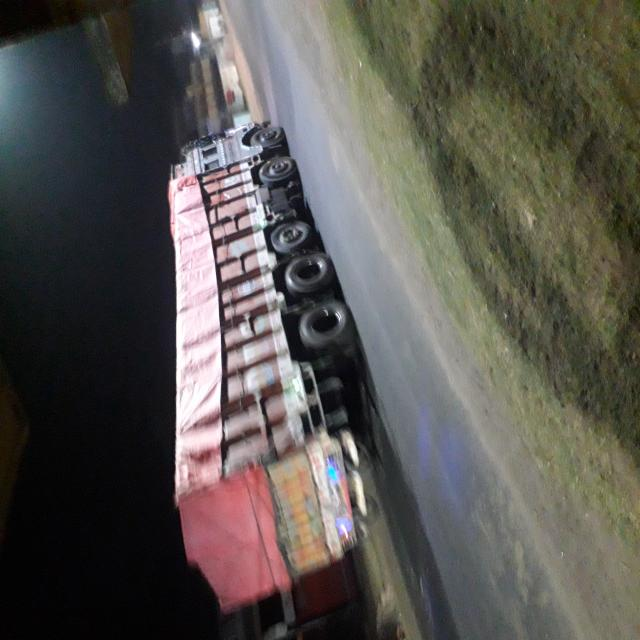Truck: (21, 226, 381, 486)
